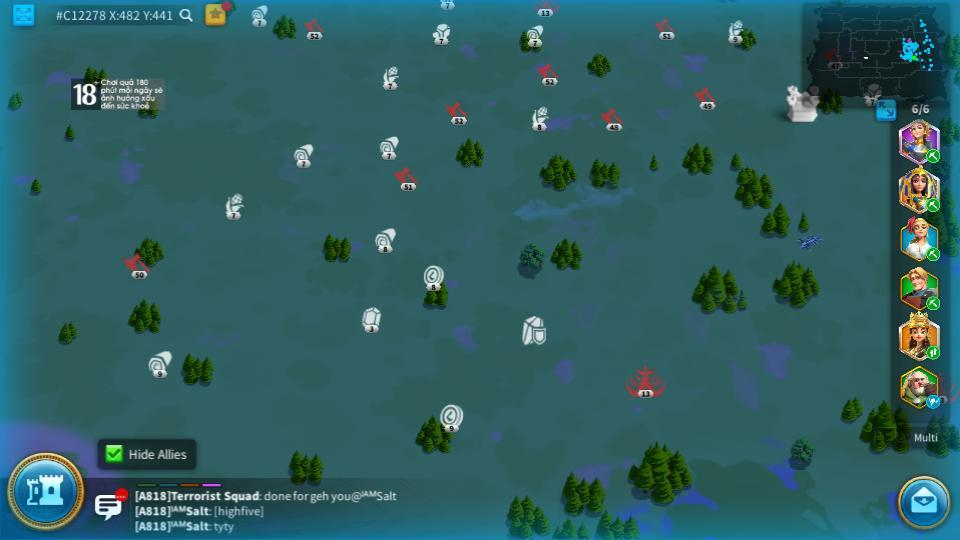gem-z-out: (361, 307, 381, 332)
march_farming: (925, 197, 941, 212), (925, 149, 941, 162), (925, 297, 941, 308), (924, 250, 939, 261)
march_marching: (925, 345, 941, 359)
